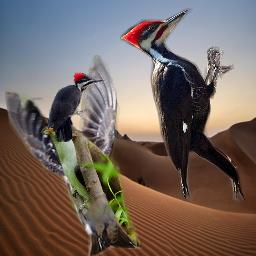Cuckoo: (38, 118, 146, 247)
Swallow: (5, 55, 142, 256)
Woodpecker: (120, 8, 246, 202), (45, 72, 105, 142)
